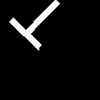half_double_crochet: (10, 0, 59, 49)
